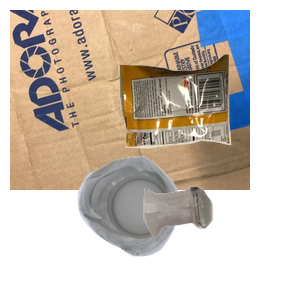cardboard: (10, 10, 250, 190)
glass: (141, 184, 300, 300)
plastic: (75, 154, 248, 300)
trash: (117, 52, 300, 193)
